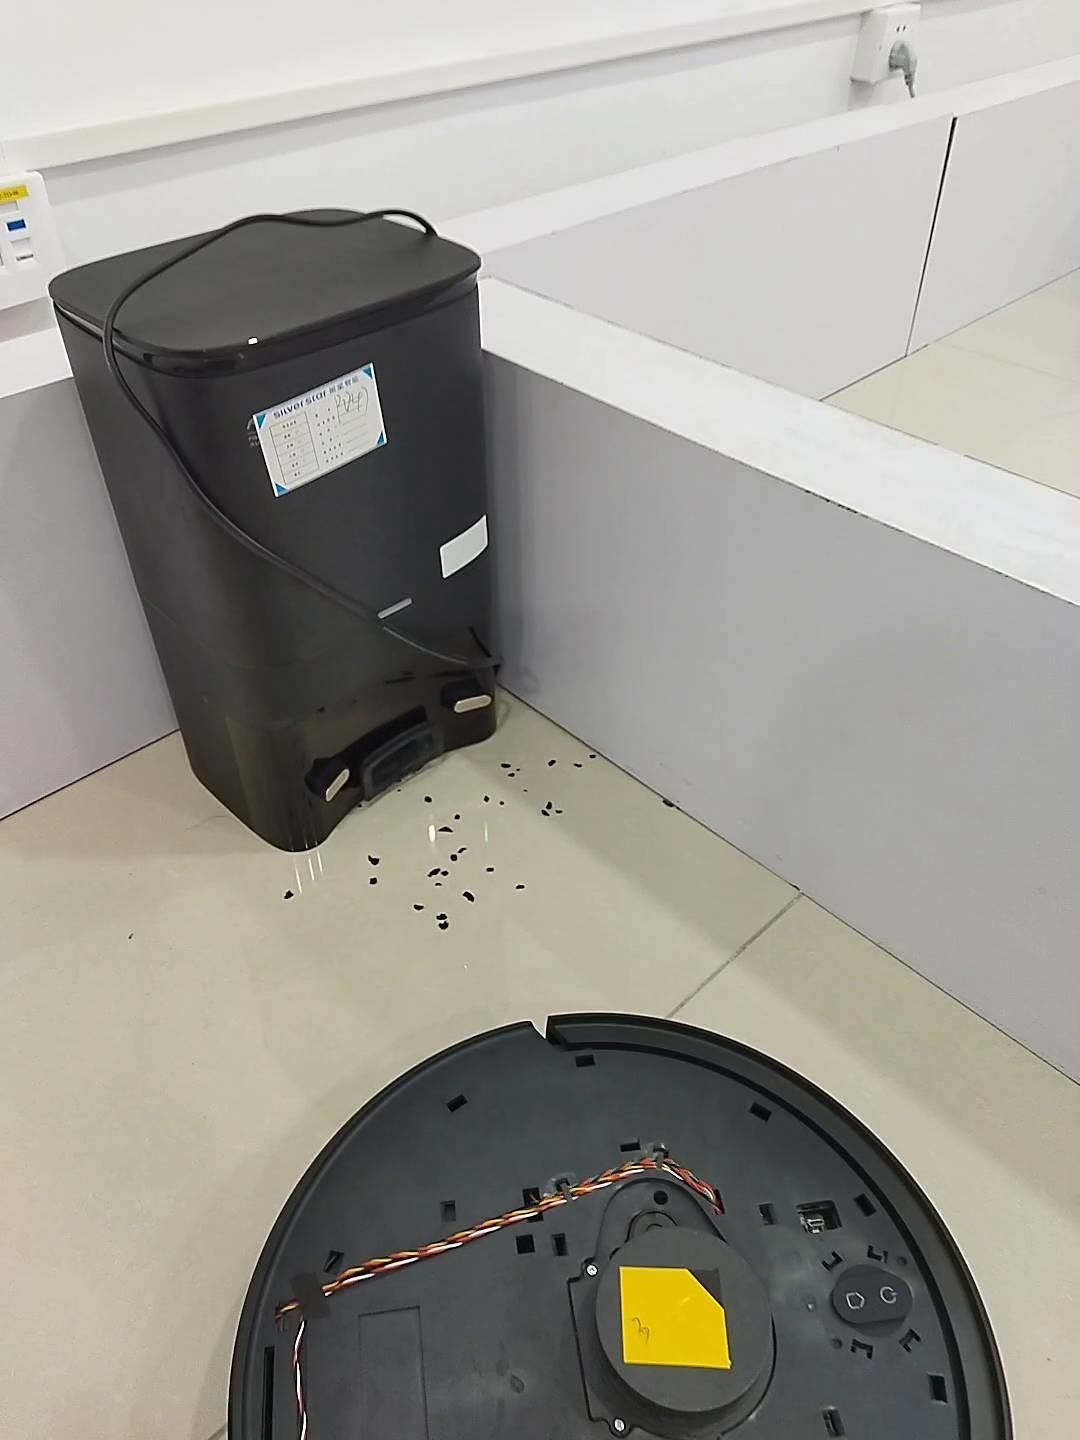dust collecting barrel: (49, 210, 498, 852)
